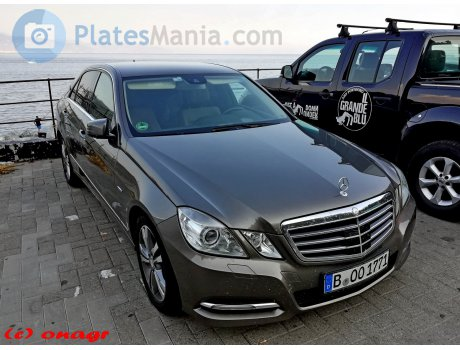License Plates: (327, 267, 393, 287)
